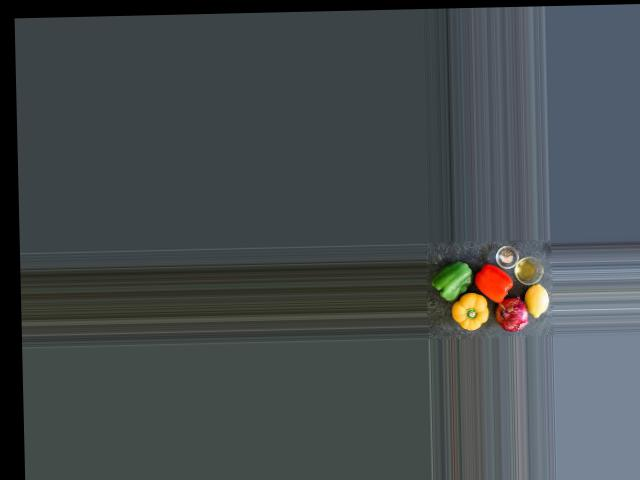bell_pepper: (474, 262, 513, 304)
